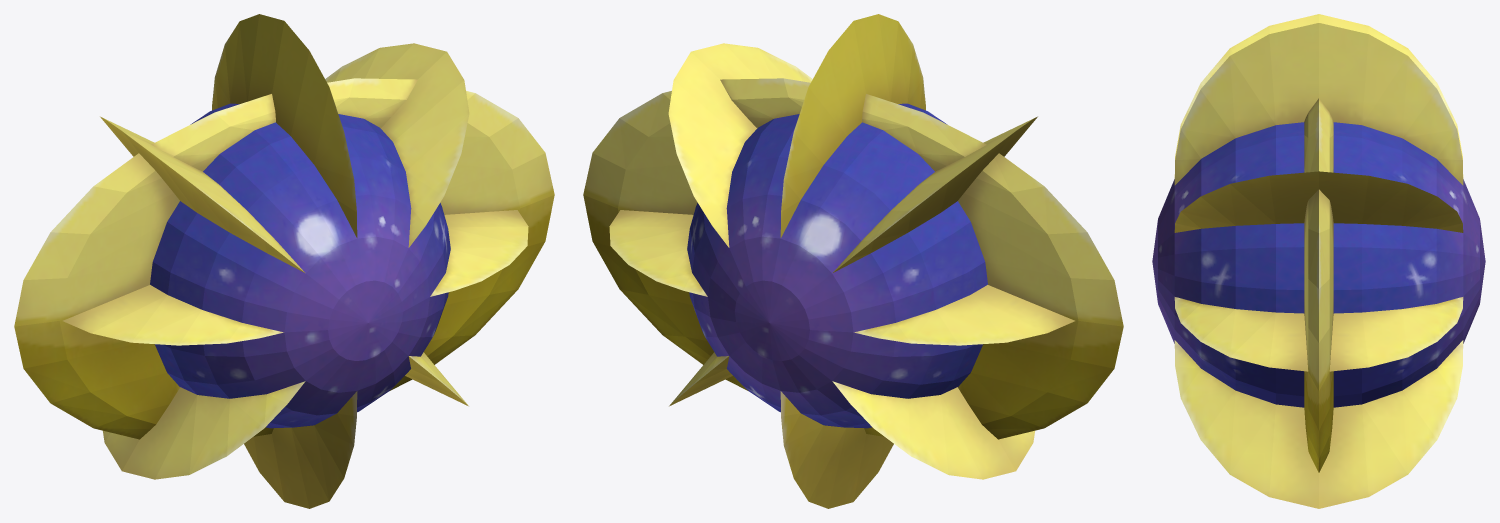
File: PM_Monster_Cosmoem.fbx
The picture shows the model from 3 angles, left to right: view 1: azimuth 30°, elevation 25°; view 2: azimuth 150°, elevation 25°; view 3: azimuth 270°, elevation 25°; orthographic projection.
Visible parts, largest first — view 1: PM_Monster_Cosmoem_Body, PM_Monster_Cosmoem_Body_1; view 2: PM_Monster_Cosmoem_Body, PM_Monster_Cosmoem_Body_1; view 3: PM_Monster_Cosmoem_Body, PM_Monster_Cosmoem_Body_1.
Boxes of the visible parts, x1,y1,x2,y2 form: PM_Monster_Cosmoem_Body: (14, 14, 554, 508); PM_Monster_Cosmoem_Body_1: (150, 103, 450, 428); PM_Monster_Cosmoem_Body: (583, 14, 1123, 508); PM_Monster_Cosmoem_Body_1: (687, 103, 987, 428); PM_Monster_Cosmoem_Body: (1174, 14, 1463, 508); PM_Monster_Cosmoem_Body_1: (1152, 122, 1485, 407).
Size of the model in its own units: 0.0904 by 0.0769 by 0.0487.
